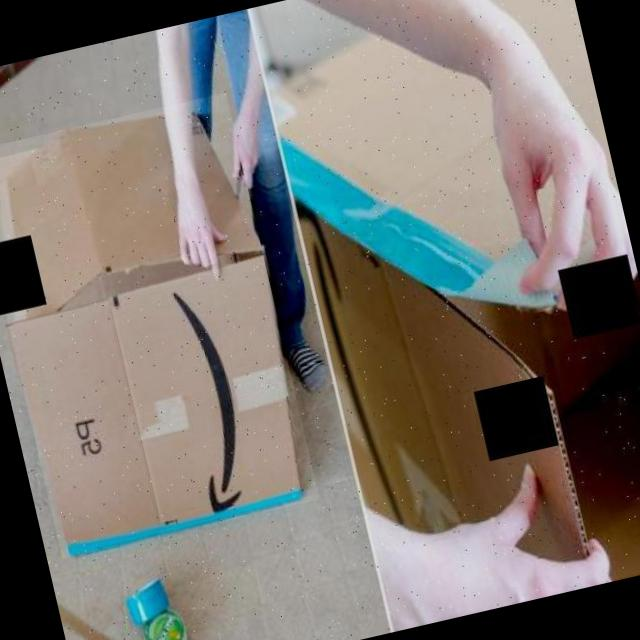box: (249, 0, 640, 629), (0, 92, 319, 559)
